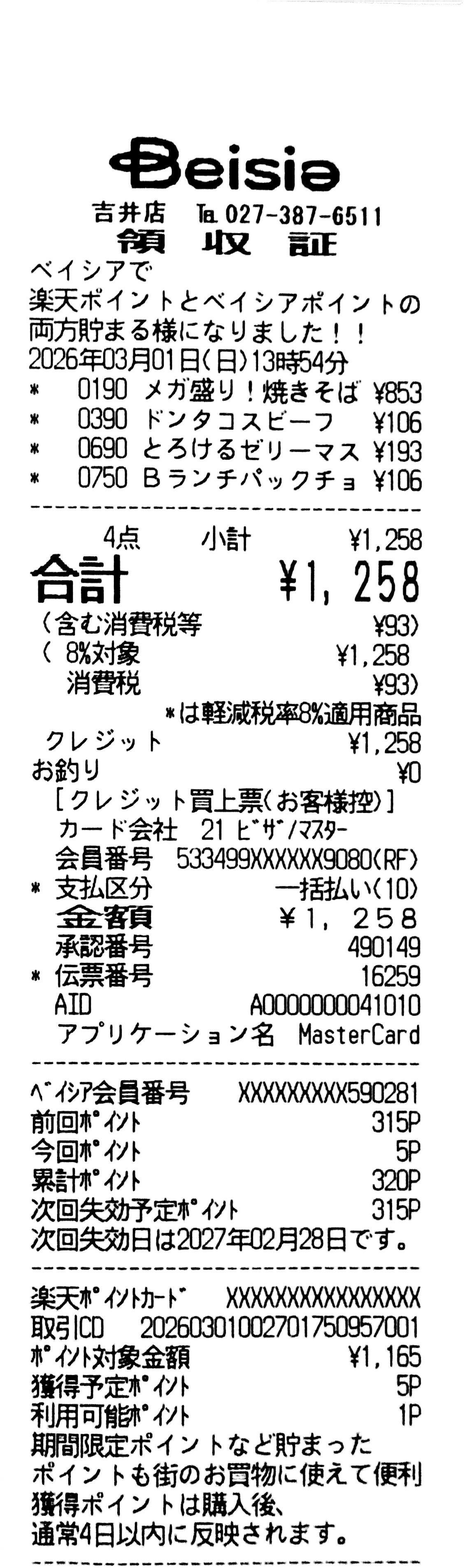Date: (28, 345, 200, 373)
Pay: (29, 552, 420, 605)
Shopname: (109, 136, 341, 192)
Telnum: (225, 202, 382, 227)
